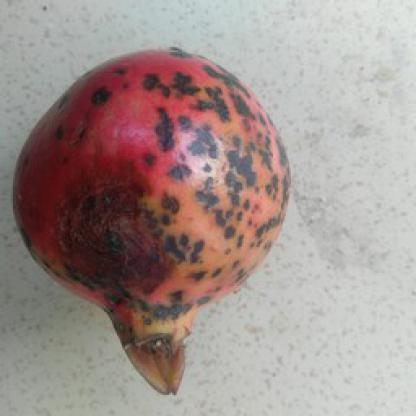pomegranate_rotten: (11, 42, 291, 396)
